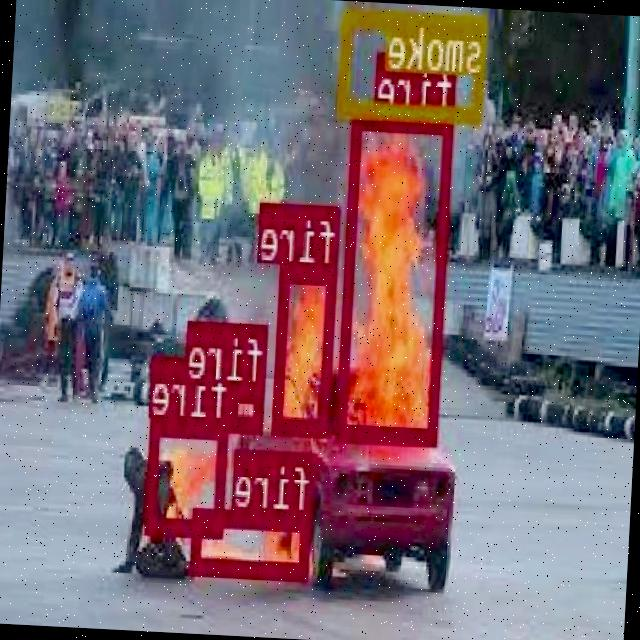fire: (339, 109, 456, 442), (274, 264, 340, 432), (146, 416, 232, 536), (193, 506, 313, 576), (231, 380, 266, 430)
smoke: (340, 9, 490, 122)
